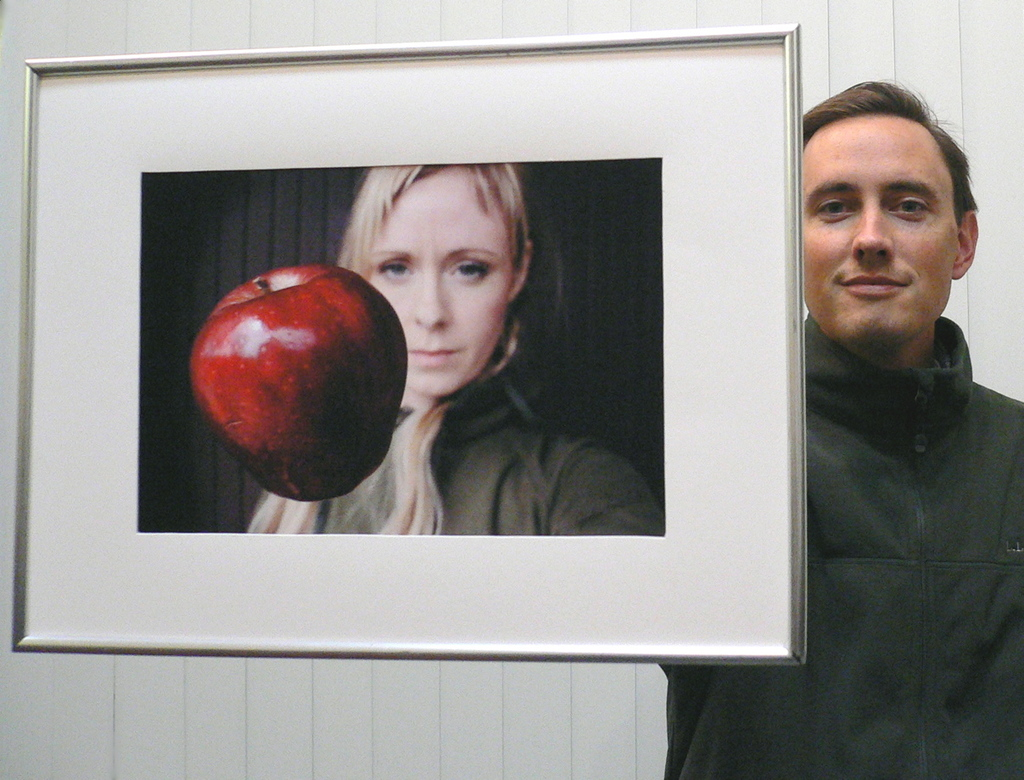Apple: (181, 244, 400, 489)
